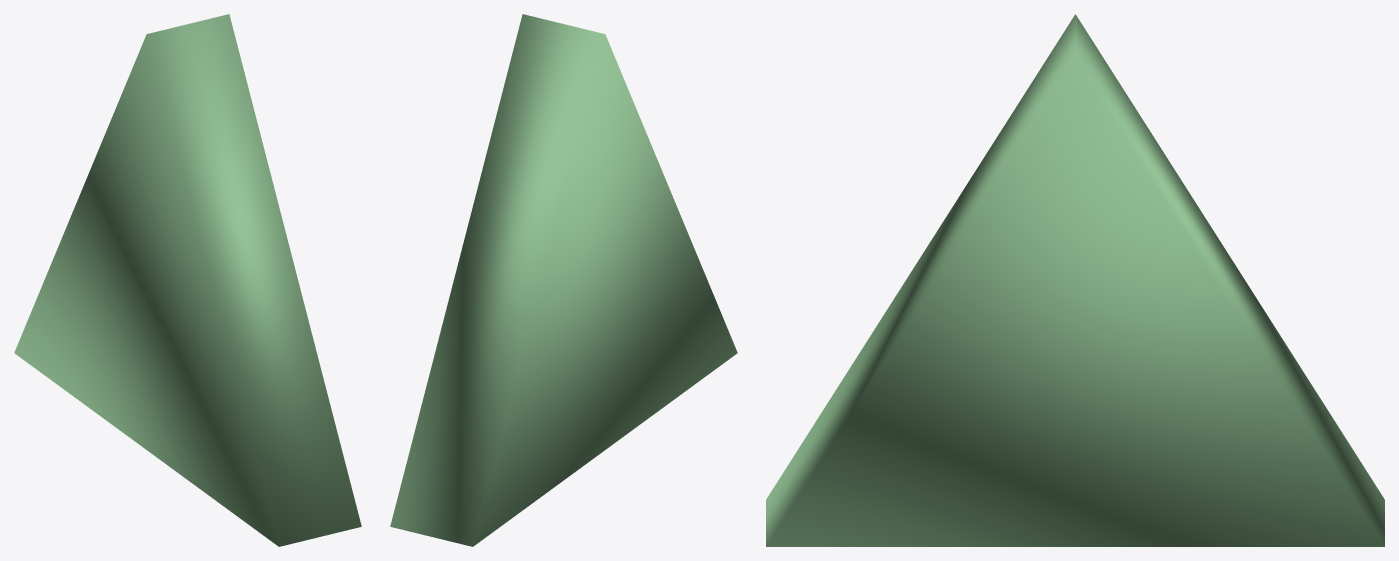
Rendered from shape-triangle-green.glb.
The picture shows the model from 3 angles, left to right: view 1: azimuth 30°, elevation 25°; view 2: azimuth 150°, elevation 25°; view 3: azimuth 270°, elevation 25°; orthographic projection. The views are drawn at different scales.
Parts seen in each view (by area): view 1: solid triangle; view 2: solid triangle; view 3: solid triangle.
Part boxes in pixels (x1=…): solid triangle: x1=14, y1=14, x2=361, y2=546; solid triangle: x1=390, y1=14, x2=737, y2=546; solid triangle: x1=766, y1=14, x2=1384, y2=546.
Bounding box in the file's own units: 0.25 × 1.2 × 1.39.
